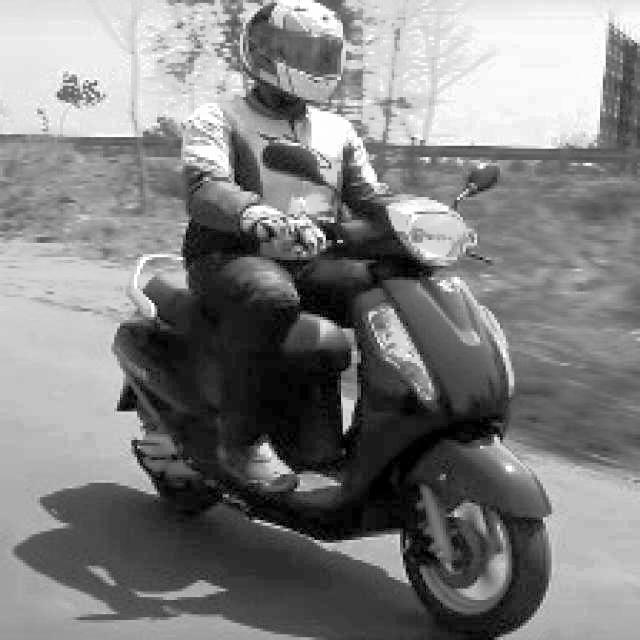Bike: (104, 173, 554, 627)
